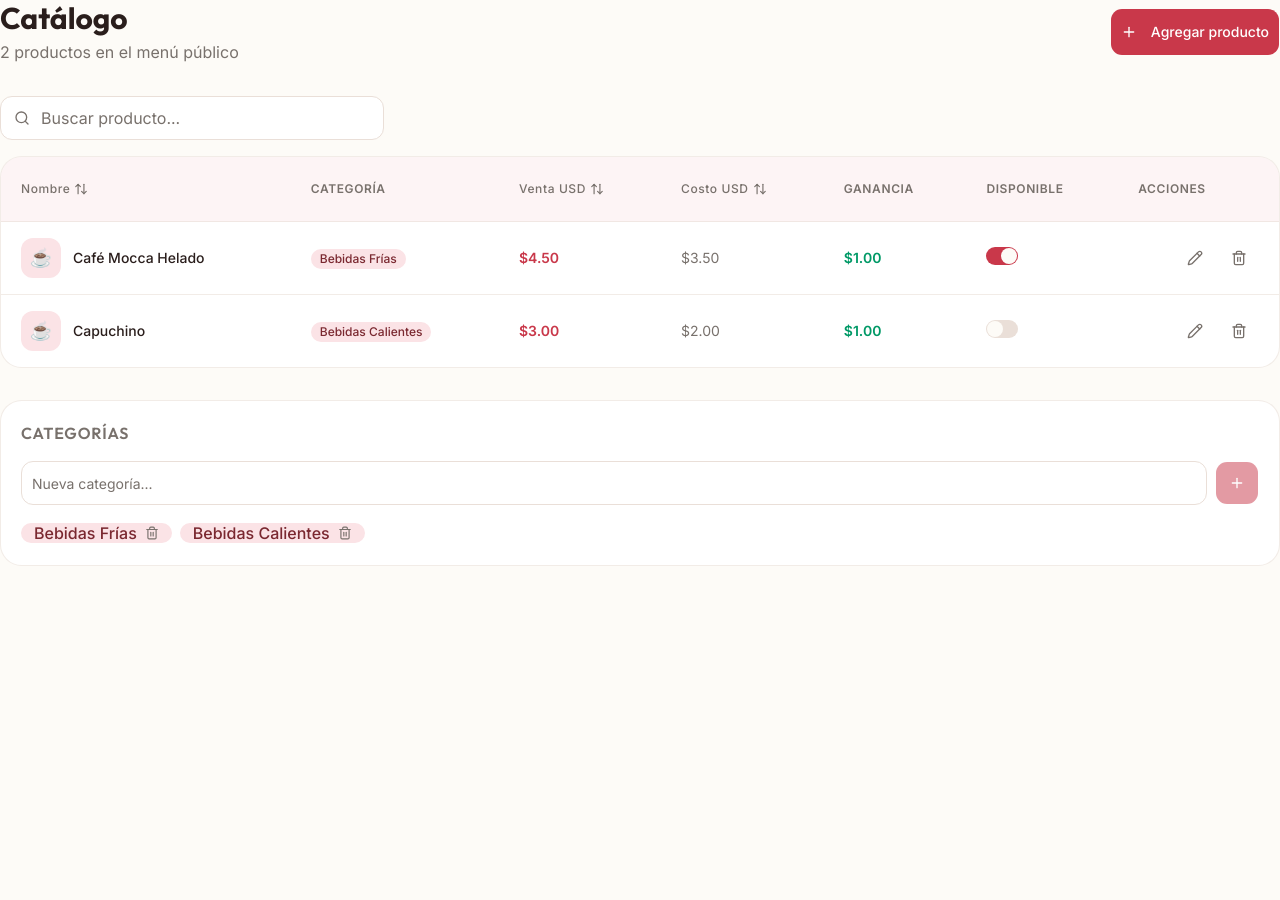
Test: CatalogoCliente › muestra la ganancia por unidad al llenar ambos precios
Click the button "Agregar producto". click: (1195, 32)
box: [1110,8,1279,56]
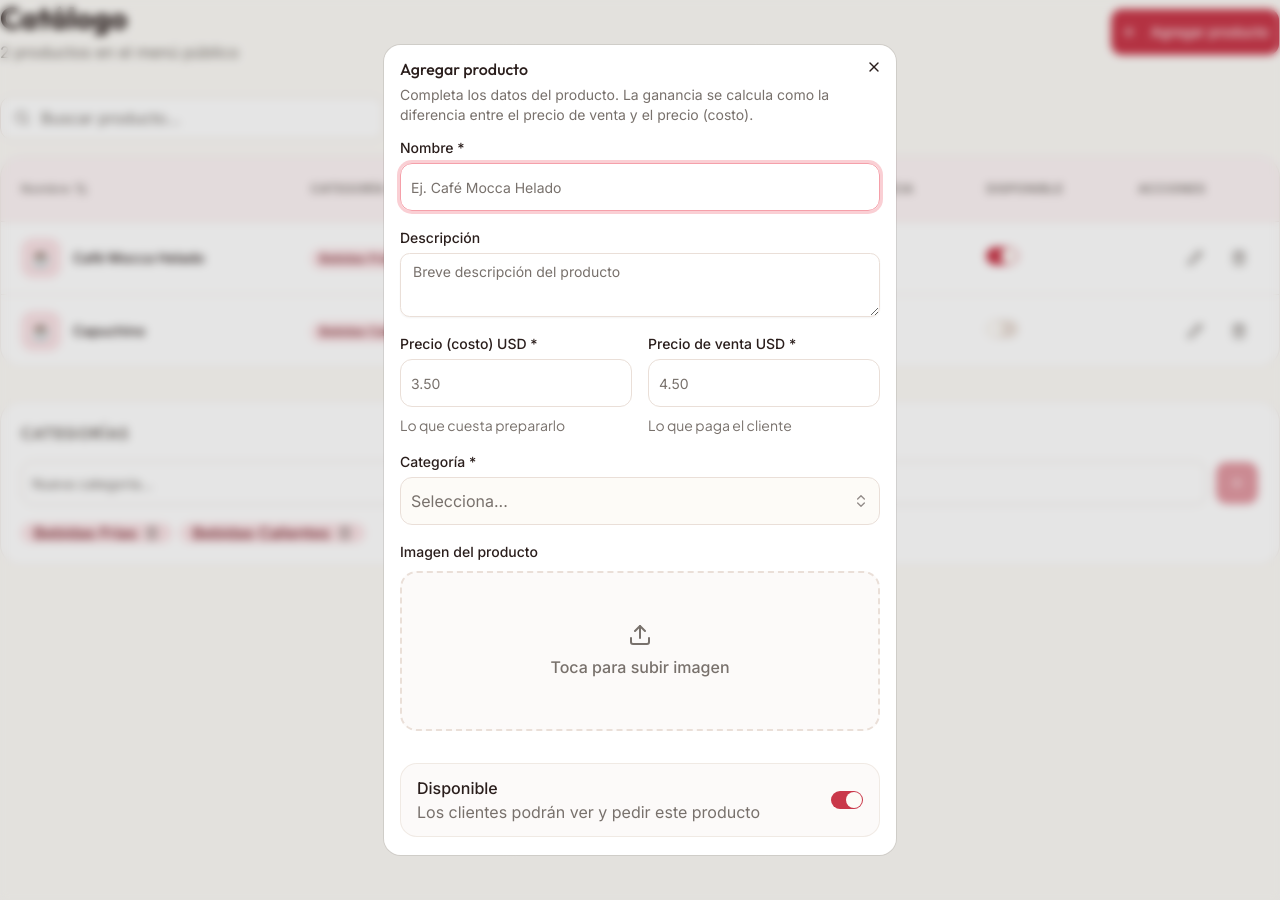
Type "2.5" into the number field labelled "Precio (costo) USD *". click: (516, 383)
box: [400,359,632,407]
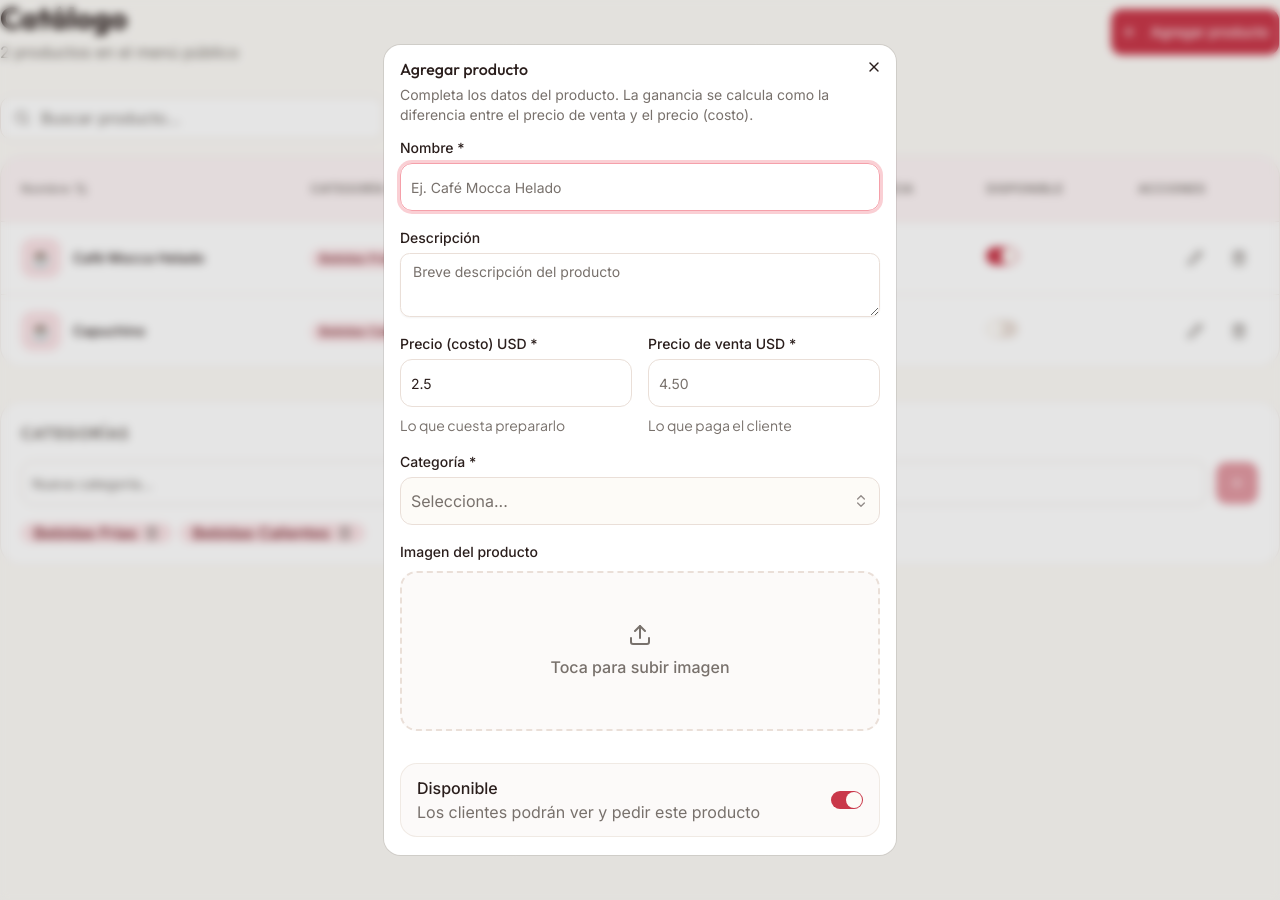
Type "4" into the number field labelled "Precio de venta USD *". click: (764, 383)
box: [648,359,880,407]
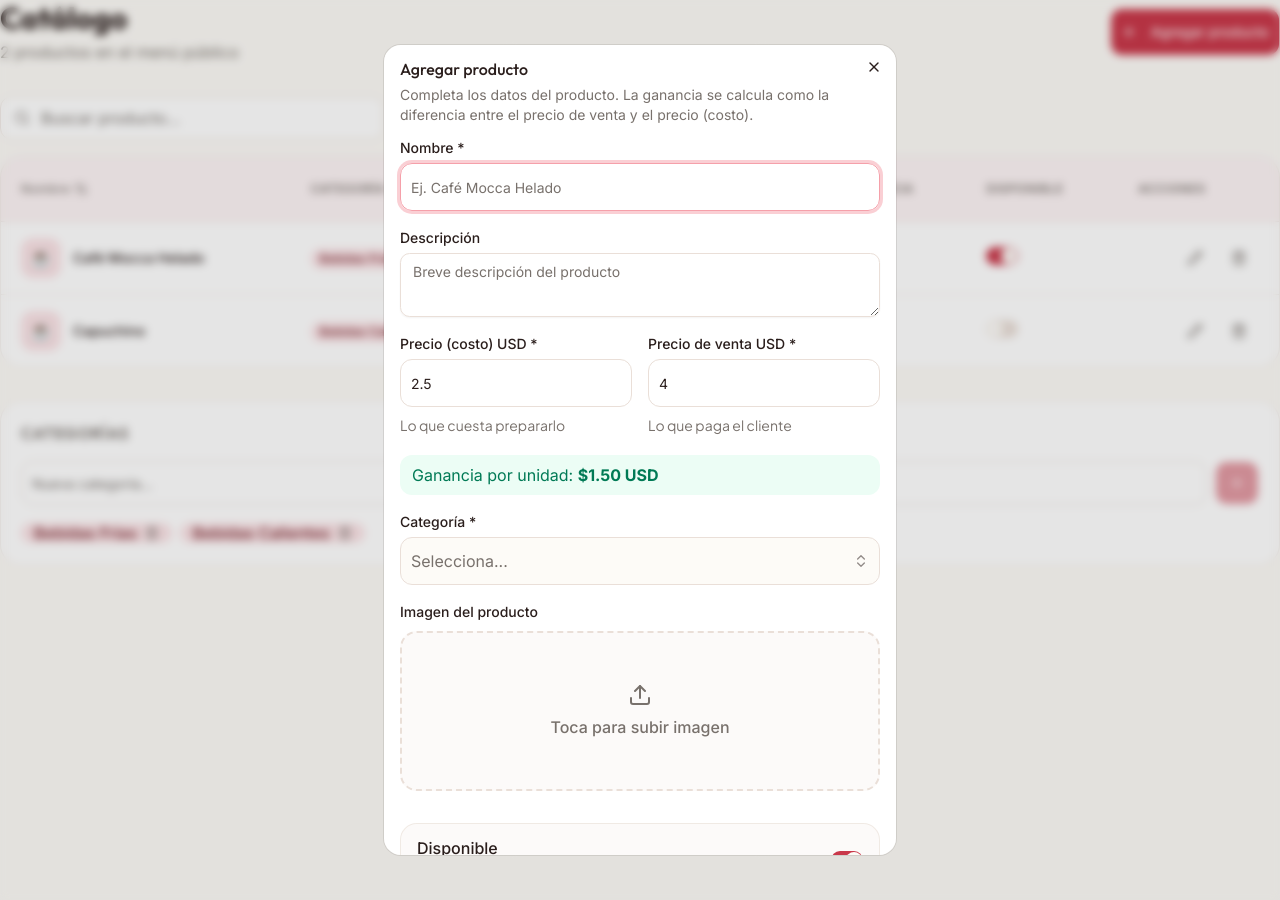
Result: the text "Ganancia por unidad: $1.50 USD" is shown at [400,455,880,495]
